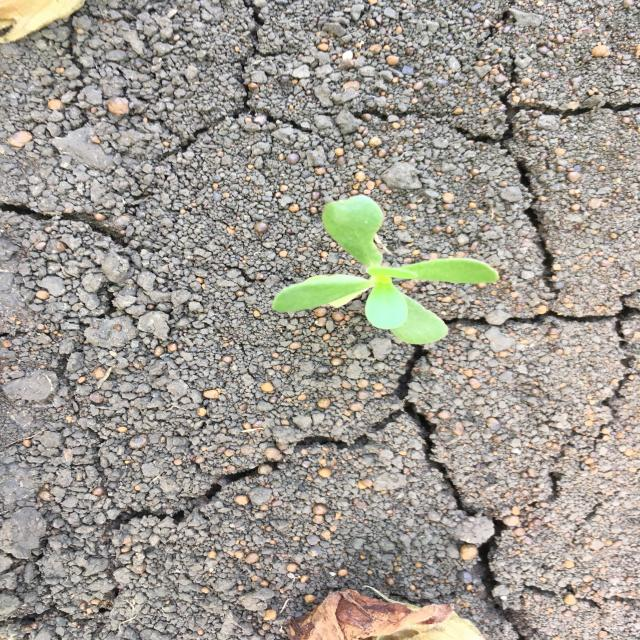Purslane: (270, 192, 502, 348)
